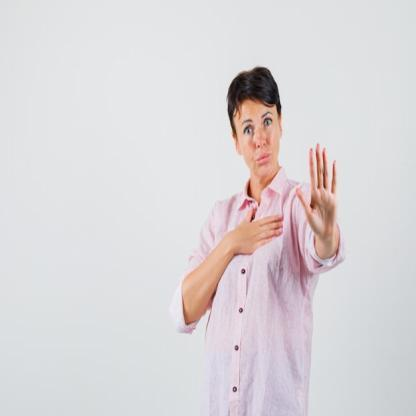stop: (297, 137, 344, 242)
